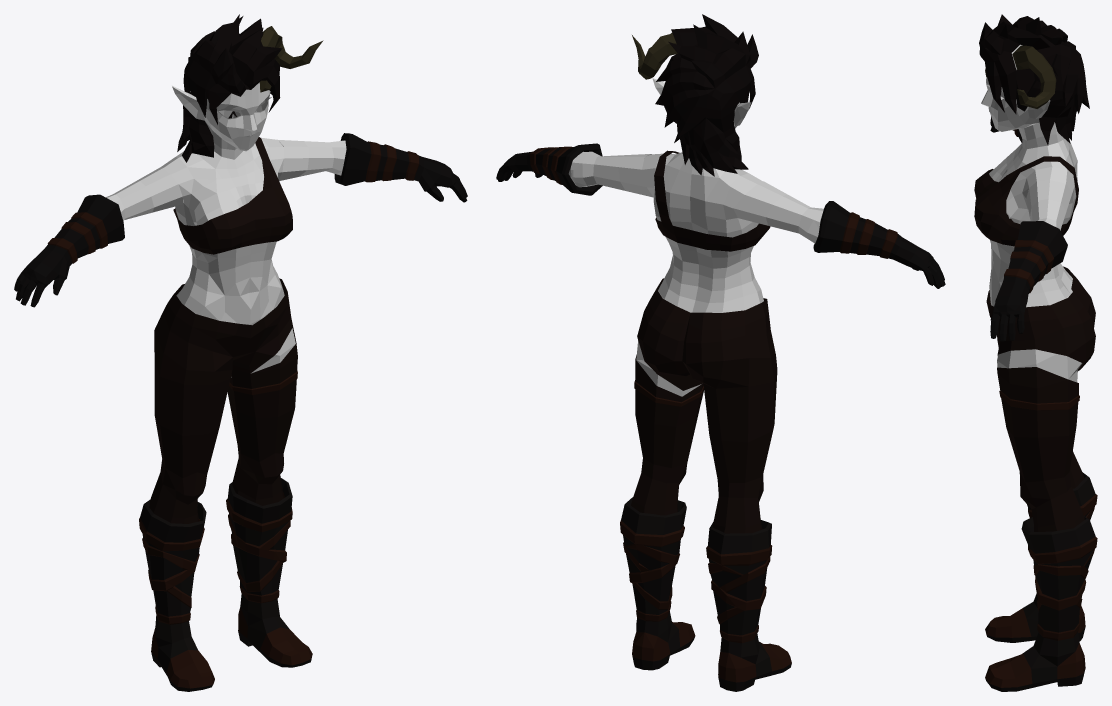
3 renders of one model, left to right at view 1: azimuth 30°, elevation 25°; view 2: azimuth 150°, elevation 25°; view 3: azimuth 270°, elevation 25°, orthographic.
Visible parts, largest first — view 1: Panty.002, Boots, Body, Gloves, Hair.002, Shirt.001, arm.001, face.002, Horn.001; view 2: Panty.002, Boots, Body, Hair.002, Gloves, arm.001, Shirt.001, Horn.001; view 3: Panty.002, Boots, Body, Hair.002, Gloves, Shirt.001, arm.001, Horn.001, face.002, ears.
Boxes of the visible parts, x1,y1,x2,y2 form: Panty.002: (149,278,297,523); Boots: (139,478,312,691); Body: (161,110,295,377); Gloves: (14,133,467,307); Hair.002: (177,14,282,162); Shirt.001: (173,137,292,254); arm.001: (106,140,346,220); face.002: (190,82,270,151); Horn.001: (259,26,323,92); Panty.002: (631,278,777,533); Boots: (620,497,791,691); Body: (636,152,763,396); Hair.002: (655,14,758,176); Gloves: (496,143,945,288); arm.001: (568,151,823,243); Shirt.001: (654,150,770,251); Horn.001: (632,33,677,79); Panty.002: (986,266,1095,531); Boots: (985,472,1097,691); Body: (989,122,1082,382); Hair.002: (979,14,1089,145); Gloves: (990,116,1067,341); Shirt.001: (974,156,1078,246); arm.001: (1026,180,1072,230); Horn.001: (985,45,1056,108); face.002: (981,44,1039,131); ears: (1028,100,1050,118).
Bounding box in the file's own units: 2.15 × 2.97 × 0.5106.
